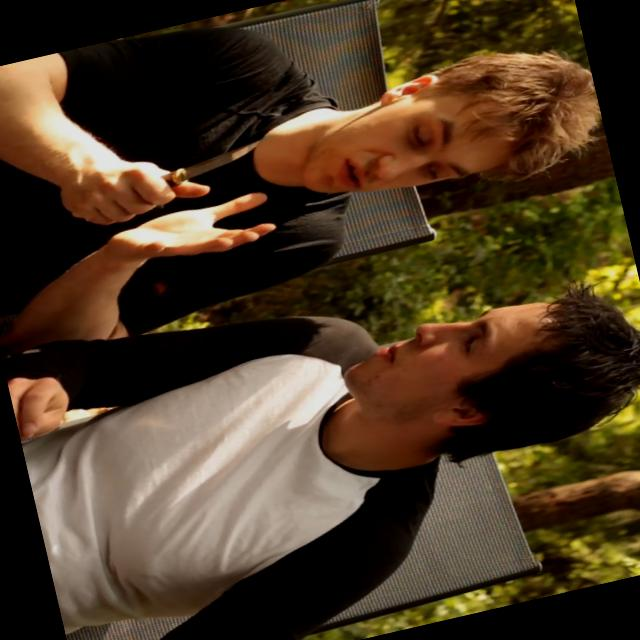knife: (110, 121, 297, 222)
